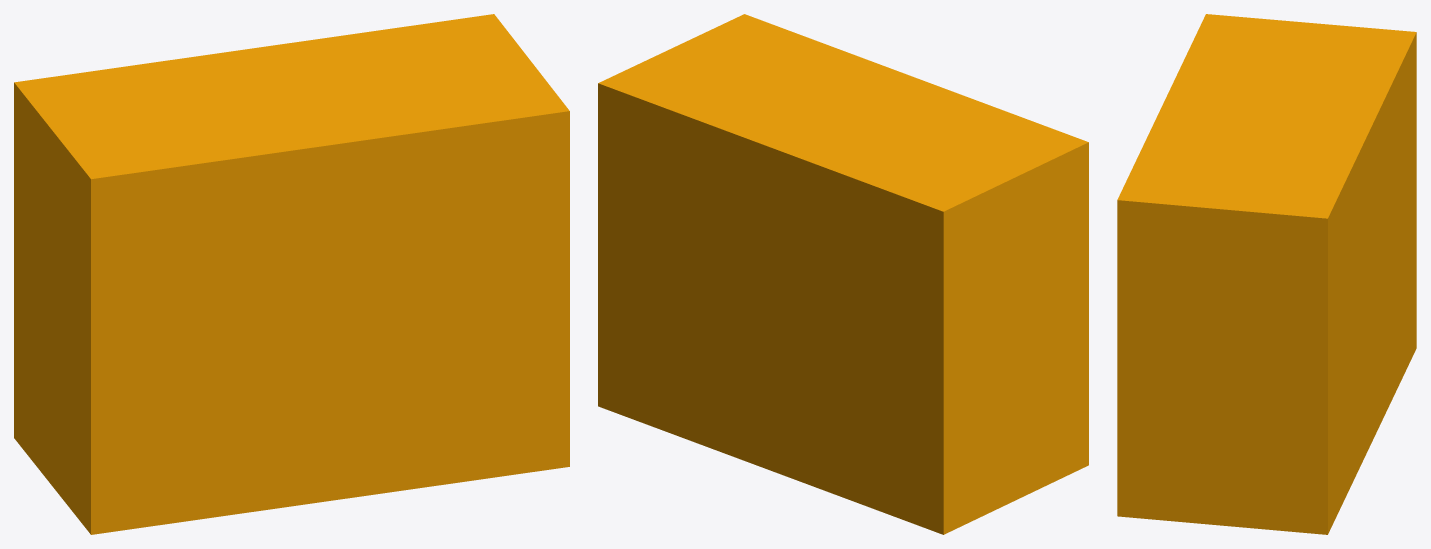
Rendered from DEHB01ALn0001Mwj.gltf.
3 views of the same model, side by side, from view 1: azimuth 30°, elevation 25°; view 2: azimuth 150°, elevation 25°; view 3: azimuth 270°, elevation 25° (orthographic). The views are drawn at different scales.
Parts seen in each view (by area): view 1: Z_UP; view 2: Z_UP; view 3: Z_UP.
Part boxes in pixels (x1,y1,x2,y2): Z_UP: [14, 14, 569, 534]; Z_UP: [598, 14, 1088, 534]; Z_UP: [1117, 14, 1416, 534].
Size of the model in its own units: 6.1 by 4.4 by 3.77.
